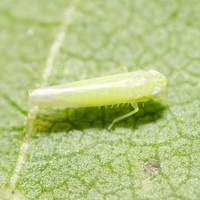insect: (29, 70, 166, 129)
